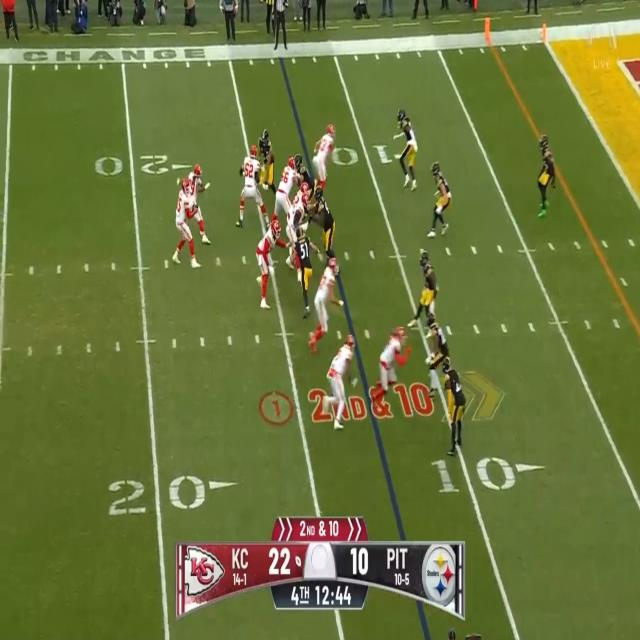Ball: (192, 203, 199, 216)
